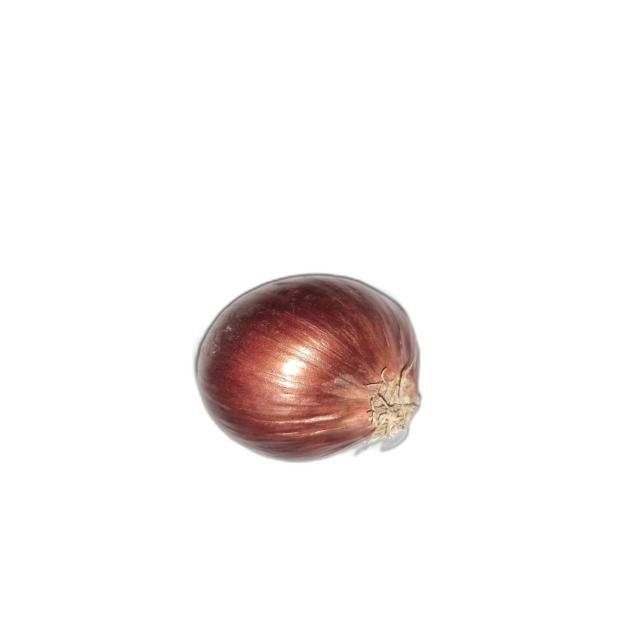onion: (196, 274, 421, 461)
